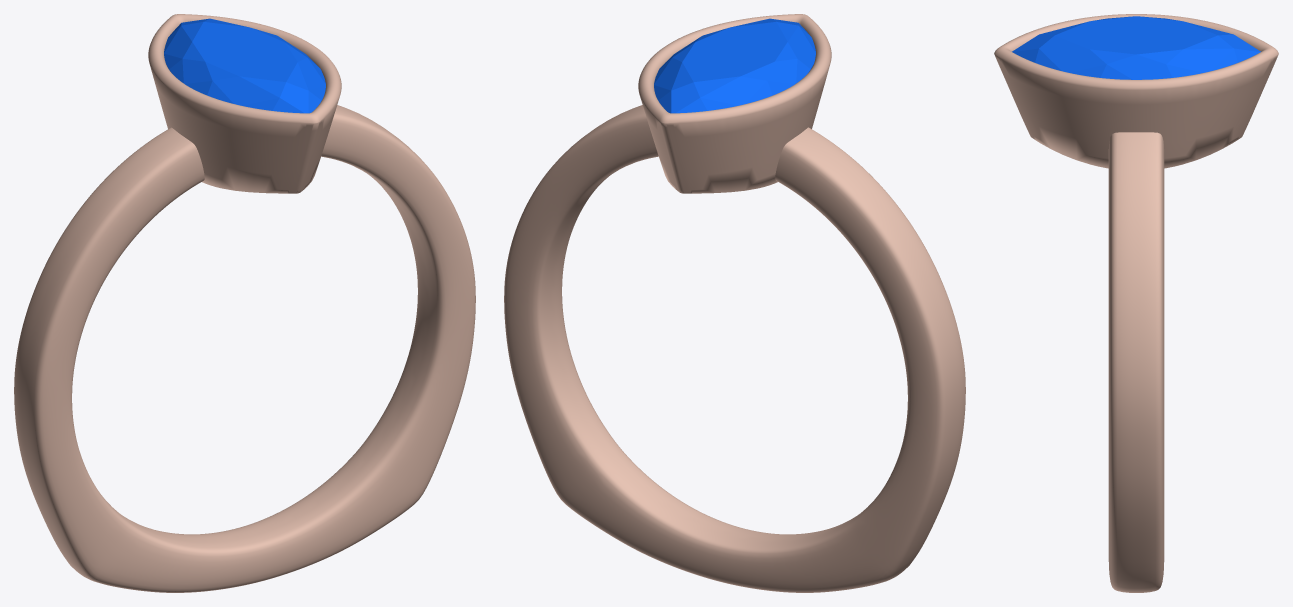
Rendered from bluesapphire-marquise-rosegold-bezelset-europeanshank-nosidestones.glb.
3 views of the same model, side by side, from view 1: azimuth 30°, elevation 25°; view 2: azimuth 150°, elevation 25°; view 3: azimuth 270°, elevation 25° (orthographic).
Visible parts, largest first — view 1: metal.002, stone; view 2: metal.002, stone; view 3: metal.002, stone.
Boxes of the visible parts, left/top/right/bottom form: metal.002: left=14, top=14, right=475, bottom=592; stone: left=164, top=18, right=325, bottom=113; metal.002: left=504, top=14, right=965, bottom=592; stone: left=654, top=18, right=815, bottom=113; metal.002: left=994, top=14, right=1278, bottom=592; stone: left=1012, top=16, right=1260, bottom=79.
Size of the model in its own units: 20.1 by 22.73 by 11.31.
